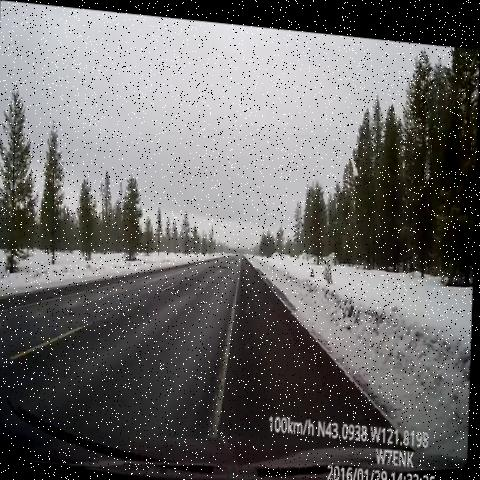pothole: (216, 255, 235, 270)
